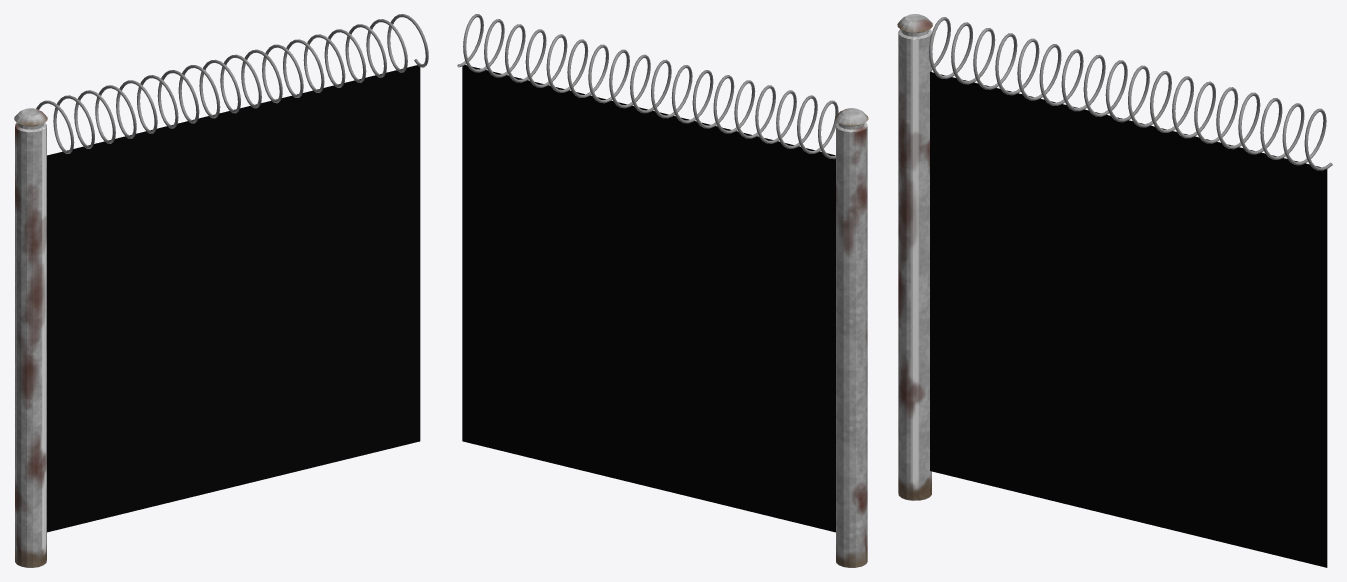
The model's file is MKU_fence_barb_fin.fbx.
The picture shows the model from 3 angles, left to right: view 1: azimuth 30°, elevation 25°; view 2: azimuth 150°, elevation 25°; view 3: azimuth 330°, elevation 25°; orthographic projection. The views are drawn at different scales.
Parts seen in each view (by area): view 1: fence, pole, wire; view 2: fence, pole, wire; view 3: fence, pole, wire.
Part boxes in pixels (x1,y1,x2,y2): fence: (47, 65, 420, 532); pole: (14, 108, 47, 567); wire: (36, 14, 428, 153); fence: (462, 65, 835, 532); pole: (835, 108, 868, 567); wire: (457, 14, 838, 159); fence: (930, 72, 1327, 567); pole: (897, 14, 932, 500); wire: (929, 17, 1332, 170).
Bounding box in the file's own units: 584 × 624 × 72.
